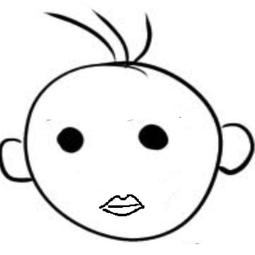cupid_mouth: (94, 193, 152, 220)
ear: (210, 119, 255, 178), (0, 138, 32, 190)
eye: (133, 118, 170, 161), (51, 124, 91, 155)
